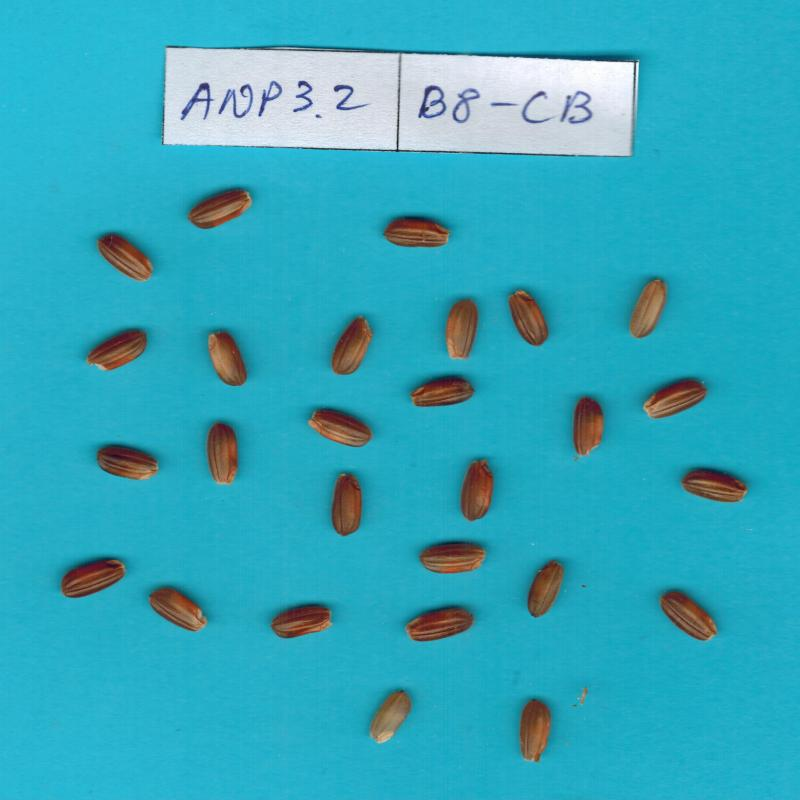Rice: (660, 591, 717, 641), (97, 234, 153, 282), (643, 380, 708, 419), (188, 190, 252, 229), (149, 589, 207, 632), (86, 331, 147, 371), (61, 560, 125, 598), (308, 410, 373, 447), (331, 317, 372, 375), (508, 290, 549, 347), (405, 608, 474, 641), (370, 690, 411, 744), (208, 331, 247, 386), (630, 279, 666, 338), (681, 470, 747, 502), (96, 446, 158, 480), (528, 560, 564, 618), (207, 422, 238, 486), (461, 460, 493, 522), (270, 606, 332, 638), (420, 544, 486, 574), (520, 699, 551, 761), (331, 474, 362, 536), (446, 300, 478, 360), (410, 377, 474, 407), (383, 219, 451, 247), (574, 397, 603, 456)
